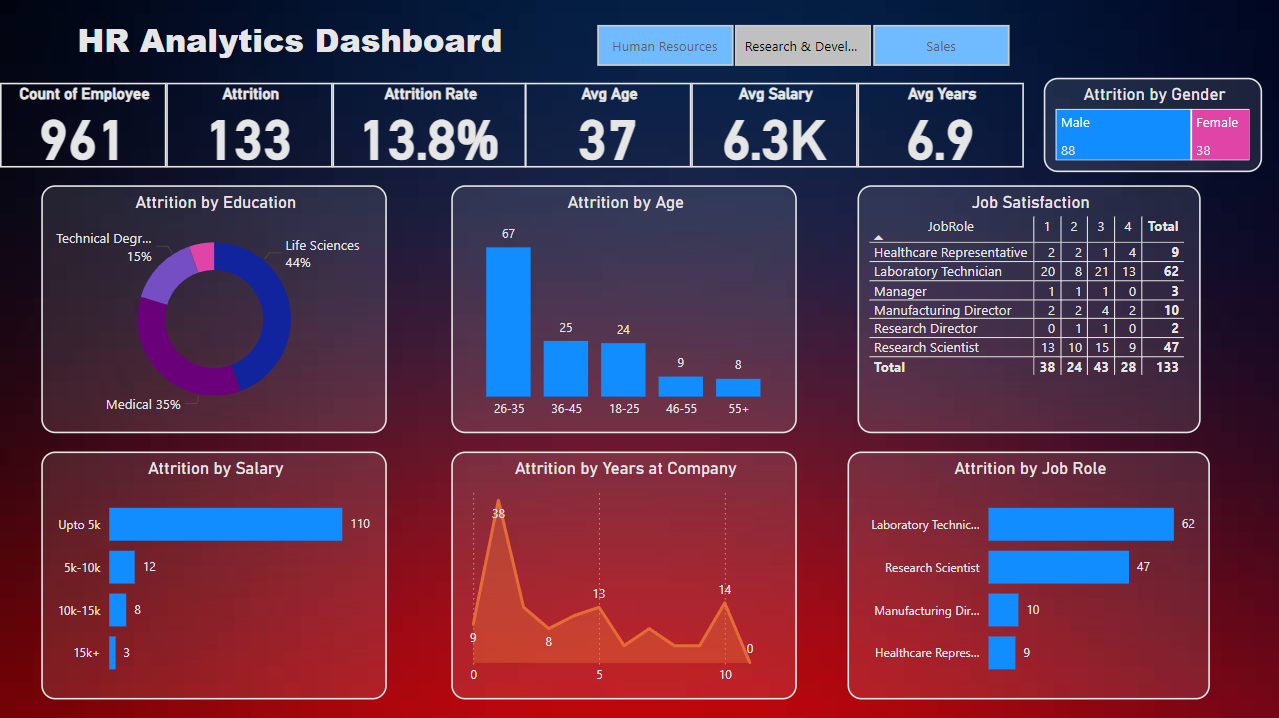

Layout of this report page (visuals, bound fields, positions):
{"tool":"powerbi","page":{"name":"Page 1","canvas":[1280,720],"ordinal":0},"visuals":[{"type":"card","title":"Count of Employee","fields":{"Values":["Sum(HR_Analytics.EmployeeCount)"]},"box":[0,83.7,166,85.1],"z":0},{"type":"card","title":"Attrition","fields":{"Values":["Sum(HR_Analytics.AttritionCount)"]},"box":[166,83.7,166,85.1],"z":1000},{"type":"card","title":"Attrition Rate","fields":{"Values":["HR_Analytics.AttritionRate"]},"box":[332.1,83.7,193.5,85.1],"z":2000},{"type":"card","title":"Avg Age","fields":{"Values":["Avg(HR_Analytics.Age)"]},"box":[525.6,83.7,166,85.1],"z":3000},{"type":"card","title":"Avg Years","fields":{"Values":["Avg(HR_Analytics.YearsAtCompany)"]},"box":[857.6,83.7,166,85.1],"z":4000},{"type":"card","title":"Avg Salary","fields":{"Values":["Avg(HR_Analytics.MonthlyIncome)"]},"box":[691.6,83.7,166,85.1],"z":5000},{"type":"donutChart","title":"Attrition by Education","fields":{"Category":["HR_Analytics.EducationField"],"Y":["Sum(HR_Analytics.AttritionCount)"]},"box":[41.2,186.6,345.8,248.4],"z":6000},{"type":"columnChart","title":"Attrition by Age","fields":{"Category":["HR_Analytics.AgeGroup"],"Y":["Sum(HR_Analytics.AttritionCount)"]},"box":[451.5,186.6,345.8,248.4],"z":7000},{"type":"pivotTable","title":"Job Satisfaction","fields":{"Rows":["HR_Analytics.JobRole"],"Columns":["HR_Analytics.JobSatisfaction"],"Values":["Sum(HR_Analytics.AttritionCount)"]},"box":[857.6,186.6,343.1,248.4],"z":8000},{"type":"clusteredBarChart","title":"Attrition by Salary","fields":{"Category":["HR_Analytics.SalarySlab"],"Y":["Sum(HR_Analytics.AttritionCount)"]},"box":[41.2,452.8,345.8,248.4],"z":9000},{"type":"clusteredBarChart","title":"Attrition by Job Role","fields":{"Category":["HR_Analytics.JobRole"],"Y":["Sum(HR_Analytics.AttritionCount)"]},"box":[848,452.8,362.3,248.4],"z":10000},{"type":"areaChart","title":"Attrition by Years at Company","fields":{"Category":["HR_Analytics.YearsAtCompany"],"Y":["Sum(HR_Analytics.AttritionCount)"]},"box":[451.5,452.8,345.8,248.4],"z":11000},{"type":"treemap","title":"Attrition by Gender","fields":{"Group":["HR_Analytics.Gender"],"Values":["Sum(HR_Analytics.AttritionCount)"]},"box":[1044.3,78.2,218.2,94.7],"z":12000},{"type":"slicer","fields":{"Values":["HR_Analytics.Department"]},"box":[575,19.2,454.2,54.9],"z":13000},{"type":"textbox","box":[53.5,12.3,472,61.7],"z":14000}]}

Visuals, with their boxes in screenshot pixels (x1, y1, x2, y2), scaled from the page's 1280x720 canvas onto the 1279x718 screenshot:
"Count of Employee" card: detection(0, 83, 166, 168)
"Attrition" card: detection(166, 83, 332, 168)
"Attrition Rate" card: detection(332, 83, 525, 168)
"Avg Age" card: detection(525, 83, 691, 168)
"Avg Years" card: detection(857, 83, 1023, 168)
"Avg Salary" card: detection(691, 83, 857, 168)
"Attrition by Education" donutChart: detection(41, 186, 387, 434)
"Attrition by Age" columnChart: detection(451, 186, 797, 434)
"Job Satisfaction" pivotTable: detection(857, 186, 1200, 434)
"Attrition by Salary" clusteredBarChart: detection(41, 452, 387, 699)
"Attrition by Job Role" clusteredBarChart: detection(847, 452, 1209, 699)
"Attrition by Years at Company" areaChart: detection(451, 452, 797, 699)
"Attrition by Gender" treemap: detection(1043, 78, 1262, 172)
slicer - HR_Analytics.Department: detection(575, 19, 1028, 74)
textbox: detection(53, 12, 525, 74)
